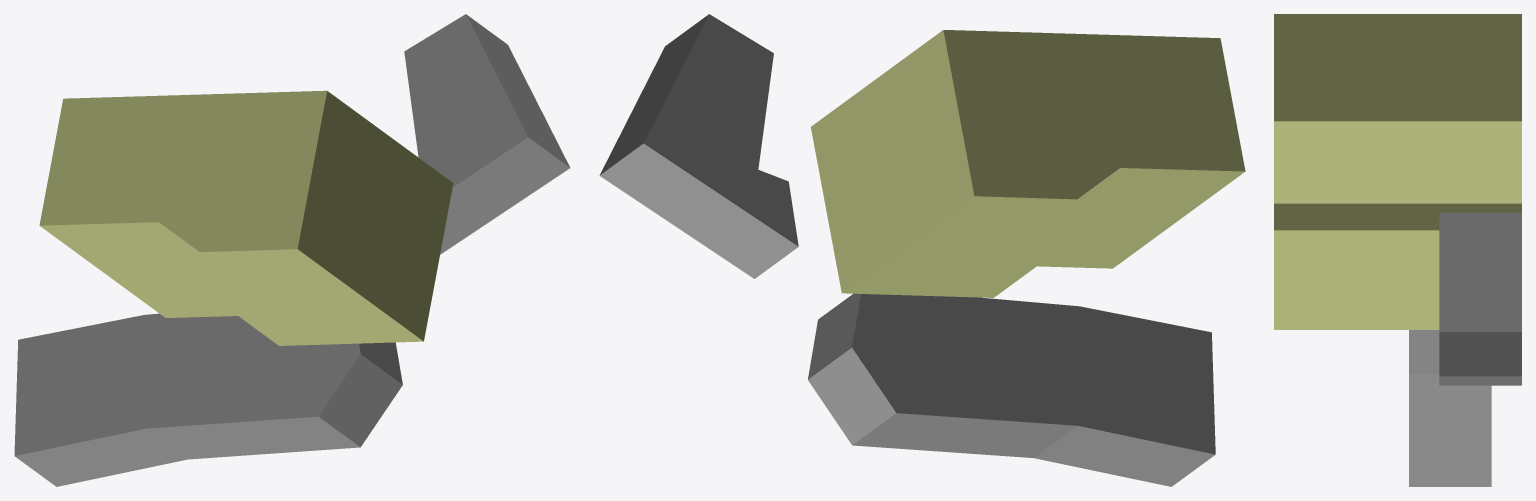
The picture shows the model from 3 angles, left to right: view 1: azimuth 30°, elevation 25°; view 2: azimuth 150°, elevation 25°; view 3: azimuth 270°, elevation 25°; orthographic projection. The views are drawn at different scales.
Visible parts, largest first — view 1: 0_1_0_0_0_1_2_1_2_0; view 2: 0_1_0_0_0_1_2_1_2_0; view 3: 0_1_0_0_0_1_2_1_2_0.
Part boxes in pixels (x1,y1,x2,y2): 0_1_0_0_0_1_2_1_2_0: (14,14,570,486); 0_1_0_0_0_1_2_1_2_0: (599,14,1245,486); 0_1_0_0_0_1_2_1_2_0: (1274,14,1521,486).
Size of the model in its own units: 21.78 by 14.36 by 9.
